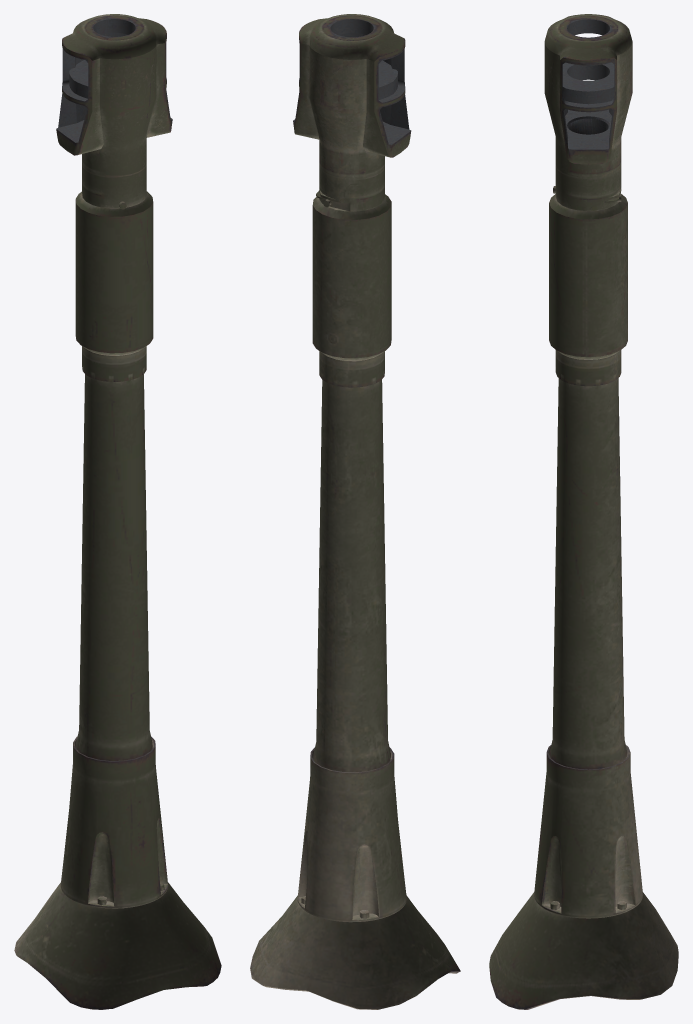
Rendered from Gun_01.glb.
3 views of the same model, side by side, from view 1: azimuth 30°, elevation 25°; view 2: azimuth 150°, elevation 25°; view 3: azimuth 270°, elevation 25° (orthographic).
Visible parts, largest first — view 1: set_0_group_0; view 2: set_0_group_0; view 3: set_0_group_0.
Part boxes in pixels (box(x1,y1,x2,y2)): set_0_group_0: box(14, 14, 221, 1009); set_0_group_0: box(250, 14, 460, 1009); set_0_group_0: box(489, 14, 678, 1009).
Bounding box in the file's own units: 0.7672 × 4.01 × 0.7257.
Materials: 1 (1 with a texture image).
